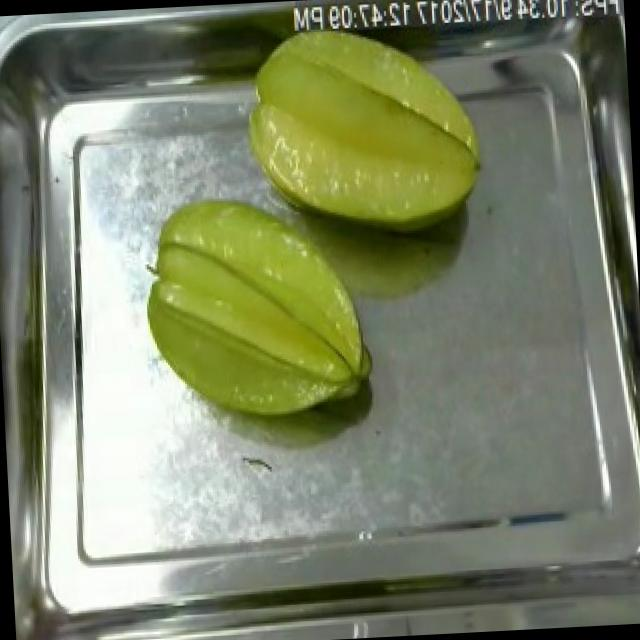fruit: (129, 178, 381, 434), (230, 8, 498, 247)
